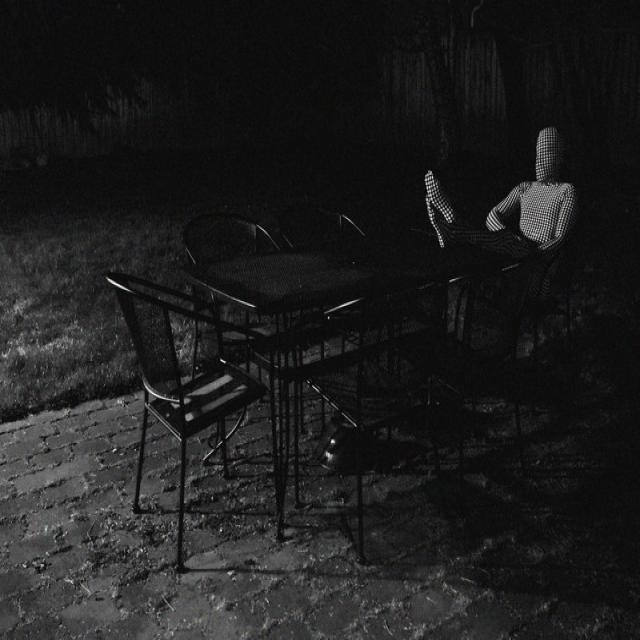People: (447, 89, 584, 346)
Table: (167, 231, 634, 463)
chair: (95, 260, 268, 563), (325, 266, 456, 546), (455, 227, 568, 470), (150, 184, 292, 310), (275, 191, 376, 302)
